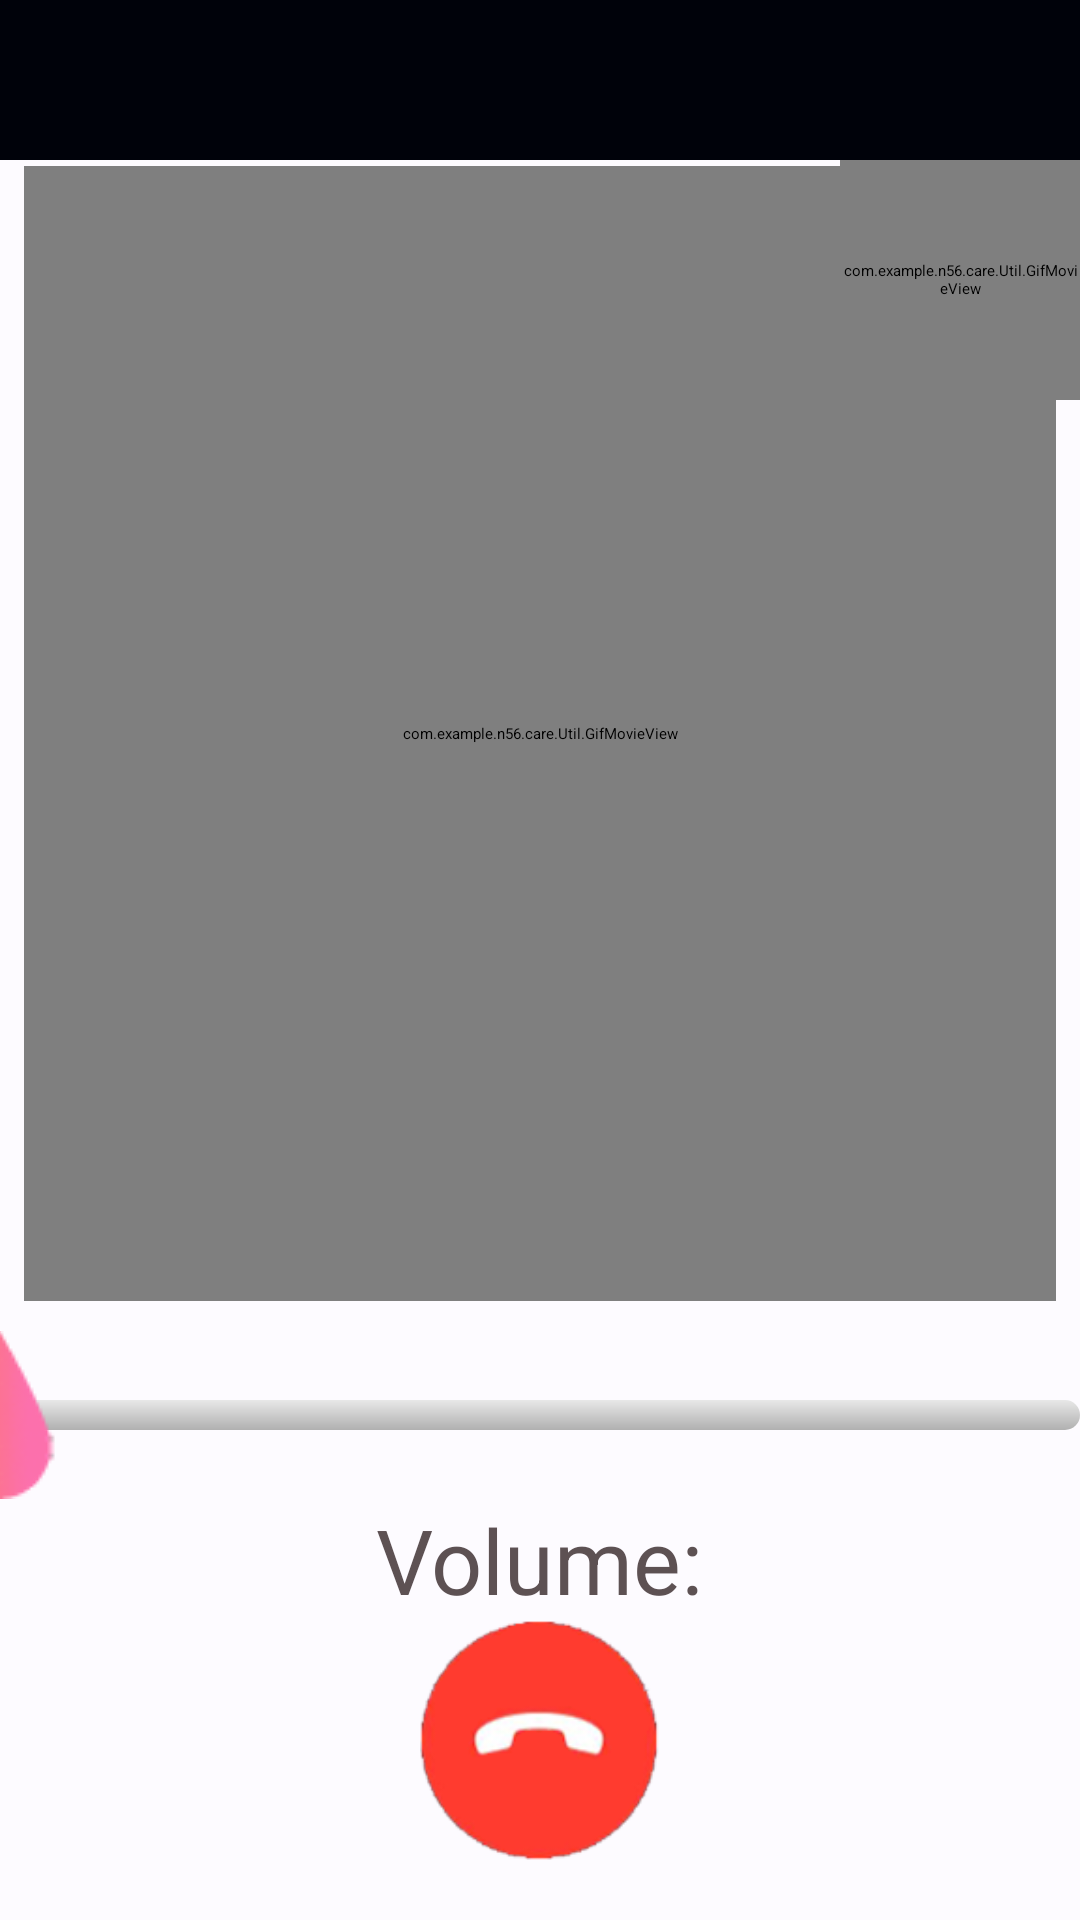

Where to tap for icons on this 1080 × 1920 app screen, as [x,y]:
handoff: [538,1740]
